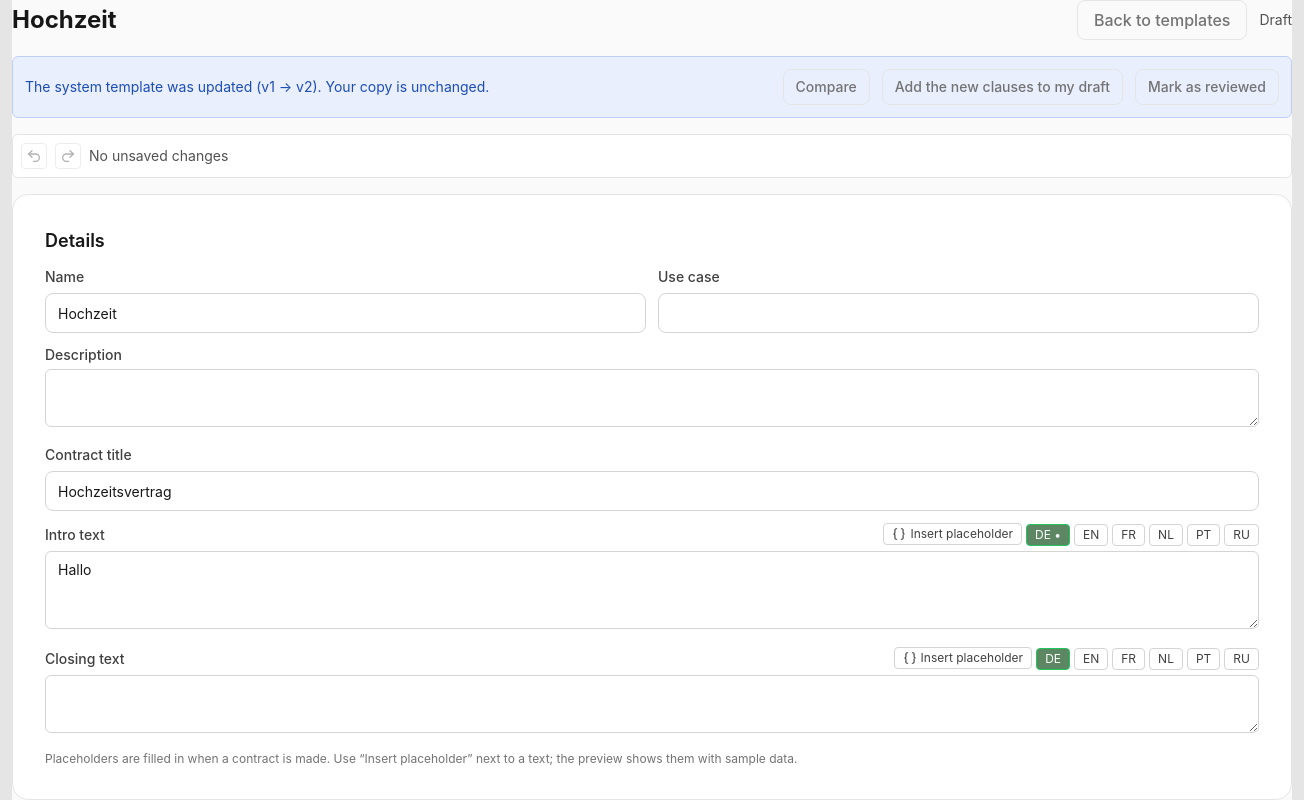
Test: offers a newer system version without applying it, and adds only the new clauses on request
Expected: the text "The system template was updated (v1 → v2)" is shown, [25, 78, 489, 95]
Expected: the text "Neue Klausel" is not shown
Click the button "Add the new clauses to my draft".
click(1002, 87)  # box [882, 69, 1123, 105]
(page scrolled)
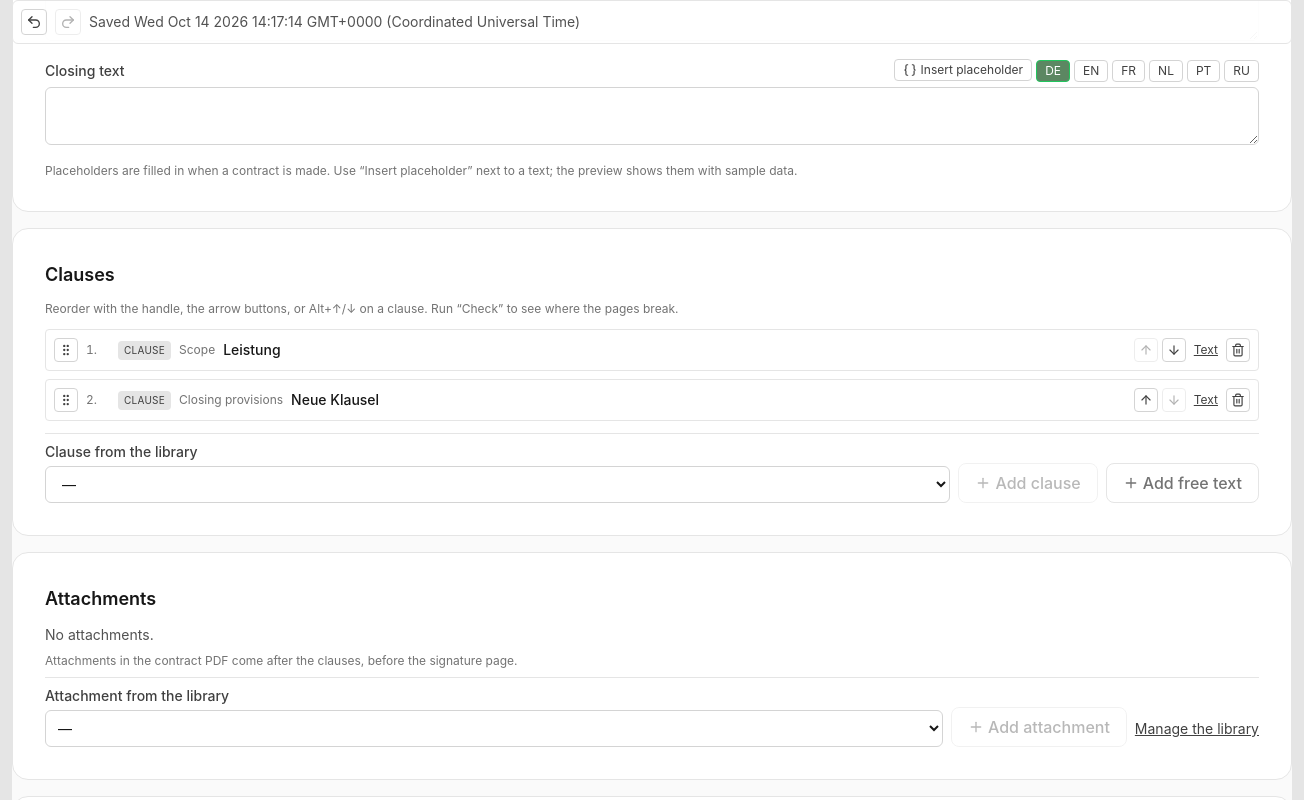
Now the text "Neue Klausel" is shown, box [291, 391, 379, 408]
